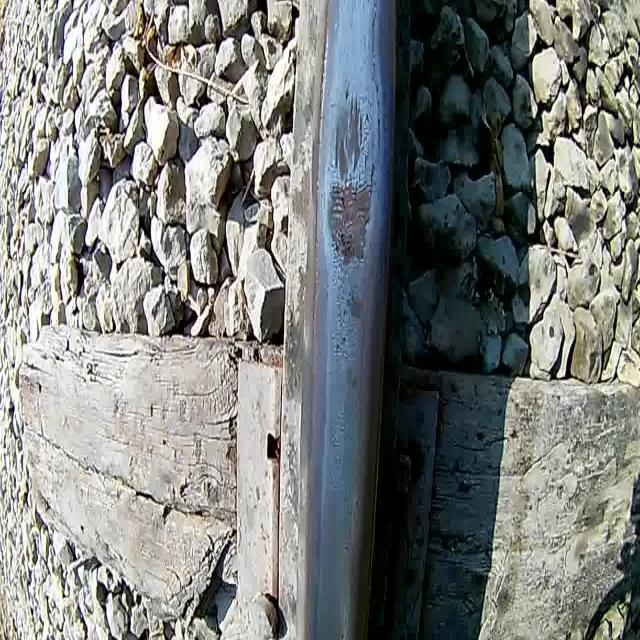Cracks: (366, 0, 387, 172), (355, 160, 379, 200), (357, 103, 364, 150)
Spallings: (329, 190, 359, 257)
Squats: (325, 178, 377, 277), (328, 77, 374, 182), (339, 285, 370, 332)
